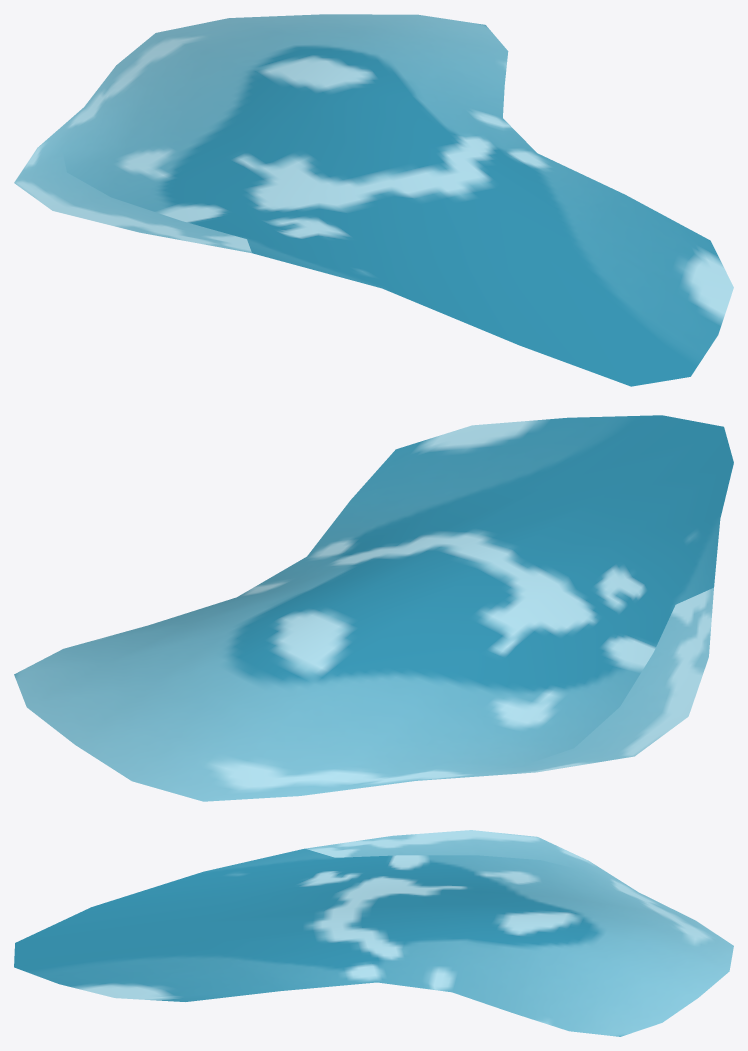
File: Mod_Water_01.fbx
3 views of the same model, one above another, from view 1: azimuth 30°, elevation 25°; view 2: azimuth 150°, elevation 25°; view 3: azimuth 270°, elevation 25° (orthographic). The views are drawn at different scales.
Visible parts, largest first — view 1: Mod_Water_01; view 2: Mod_Water_01; view 3: Mod_Water_01.
Boxes of the visible parts, x1,y1,x2,y2 form: Mod_Water_01: [14, 14, 733, 386]; Mod_Water_01: [14, 415, 733, 801]; Mod_Water_01: [14, 830, 733, 1036].
Size of the model in its own units: 99.16 by 10.21 by 155.
